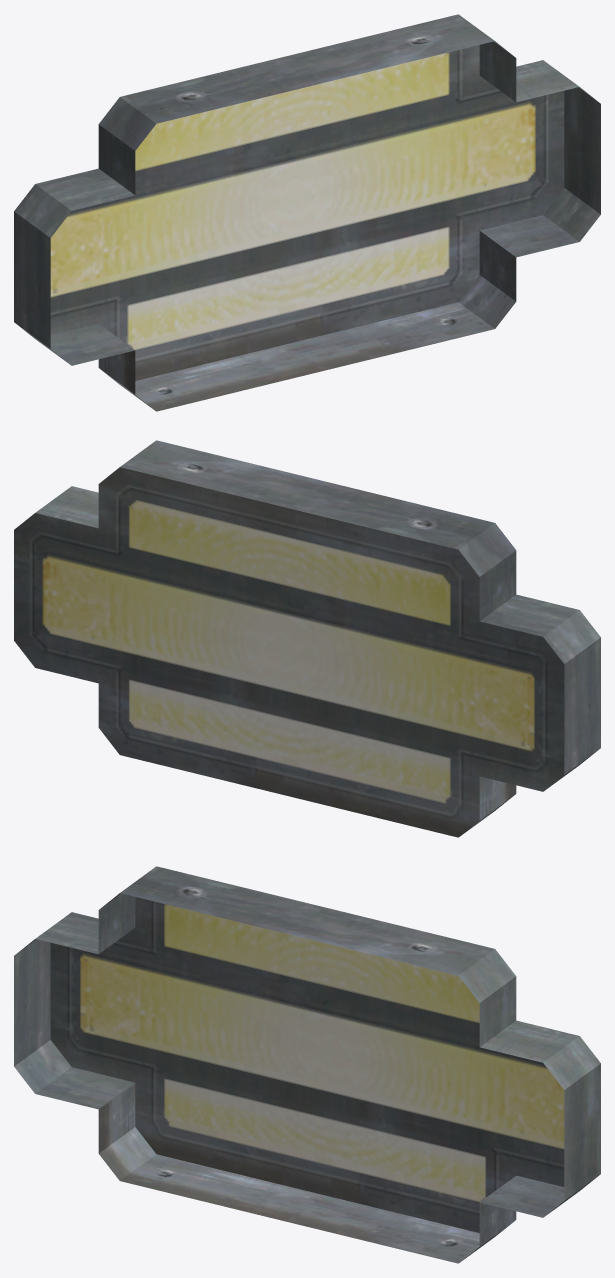
The model's file is light_floor.obj.
3 renders of one model, top to bottom at view 1: azimuth 30°, elevation 25°; view 2: azimuth 150°, elevation 25°; view 3: azimuth 330°, elevation 25°, orthographic.
Parts seen in each view (by area): view 1: light_floor; view 2: light_floor; view 3: light_floor.
Part boxes in pixels (x1,y1,x2,y2): light_floor: (14, 14, 600, 411); light_floor: (14, 440, 600, 837); light_floor: (14, 866, 600, 1263).
Bounding box in the file's own units: 26 × 13 × 3.
